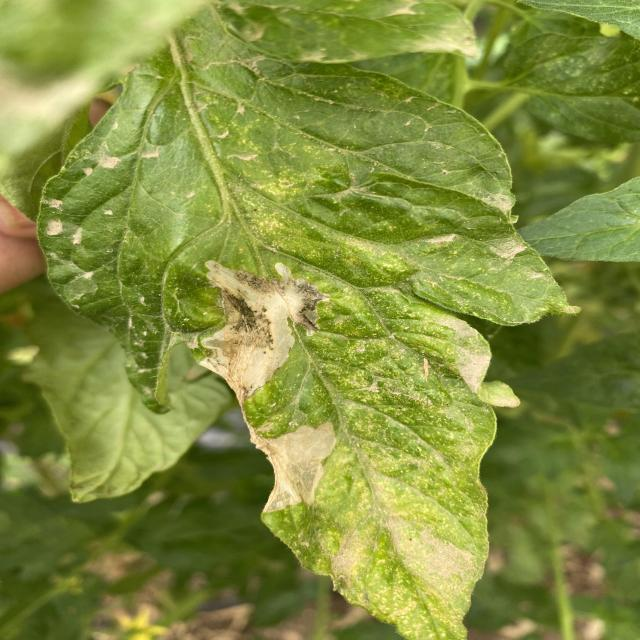Tuta absoluta: (197, 258, 338, 515)
